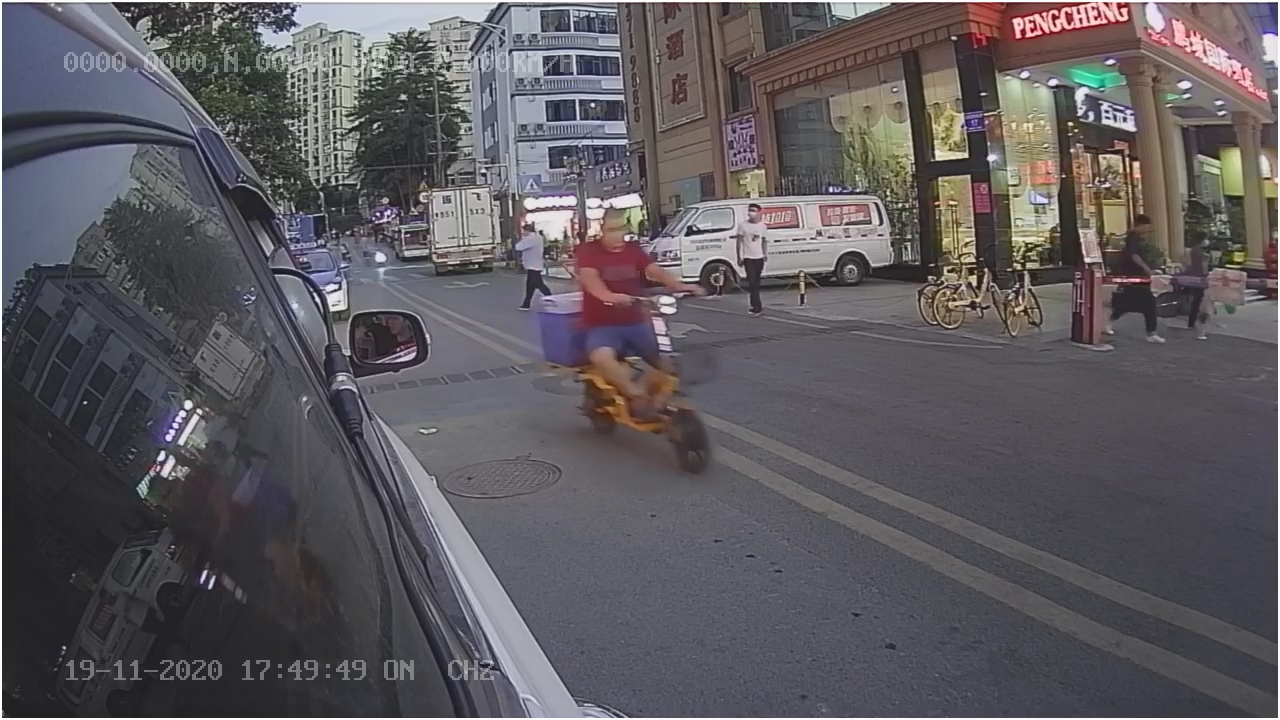person: (575, 210, 667, 322)
